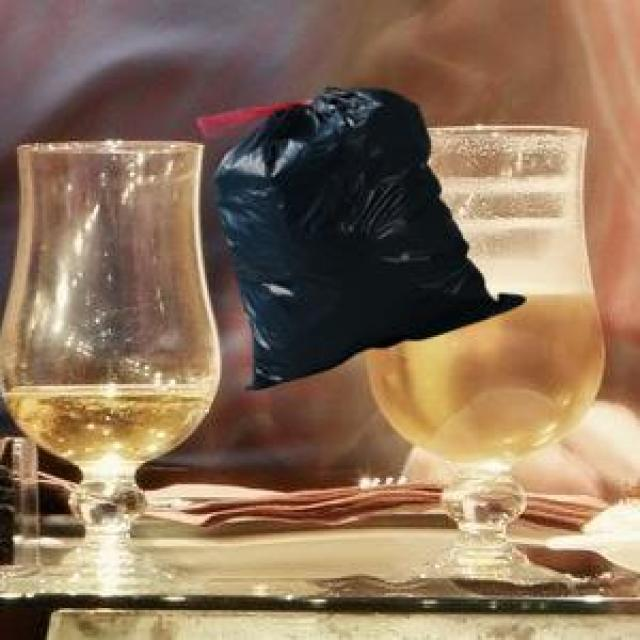miscellaneous trash: (194, 83, 521, 386)
